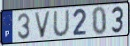0: (89, 6, 108, 36)
2: (72, 7, 88, 37)
3: (17, 12, 32, 40), (110, 5, 124, 34)
U: (52, 9, 71, 38)
V: (33, 10, 52, 39)
